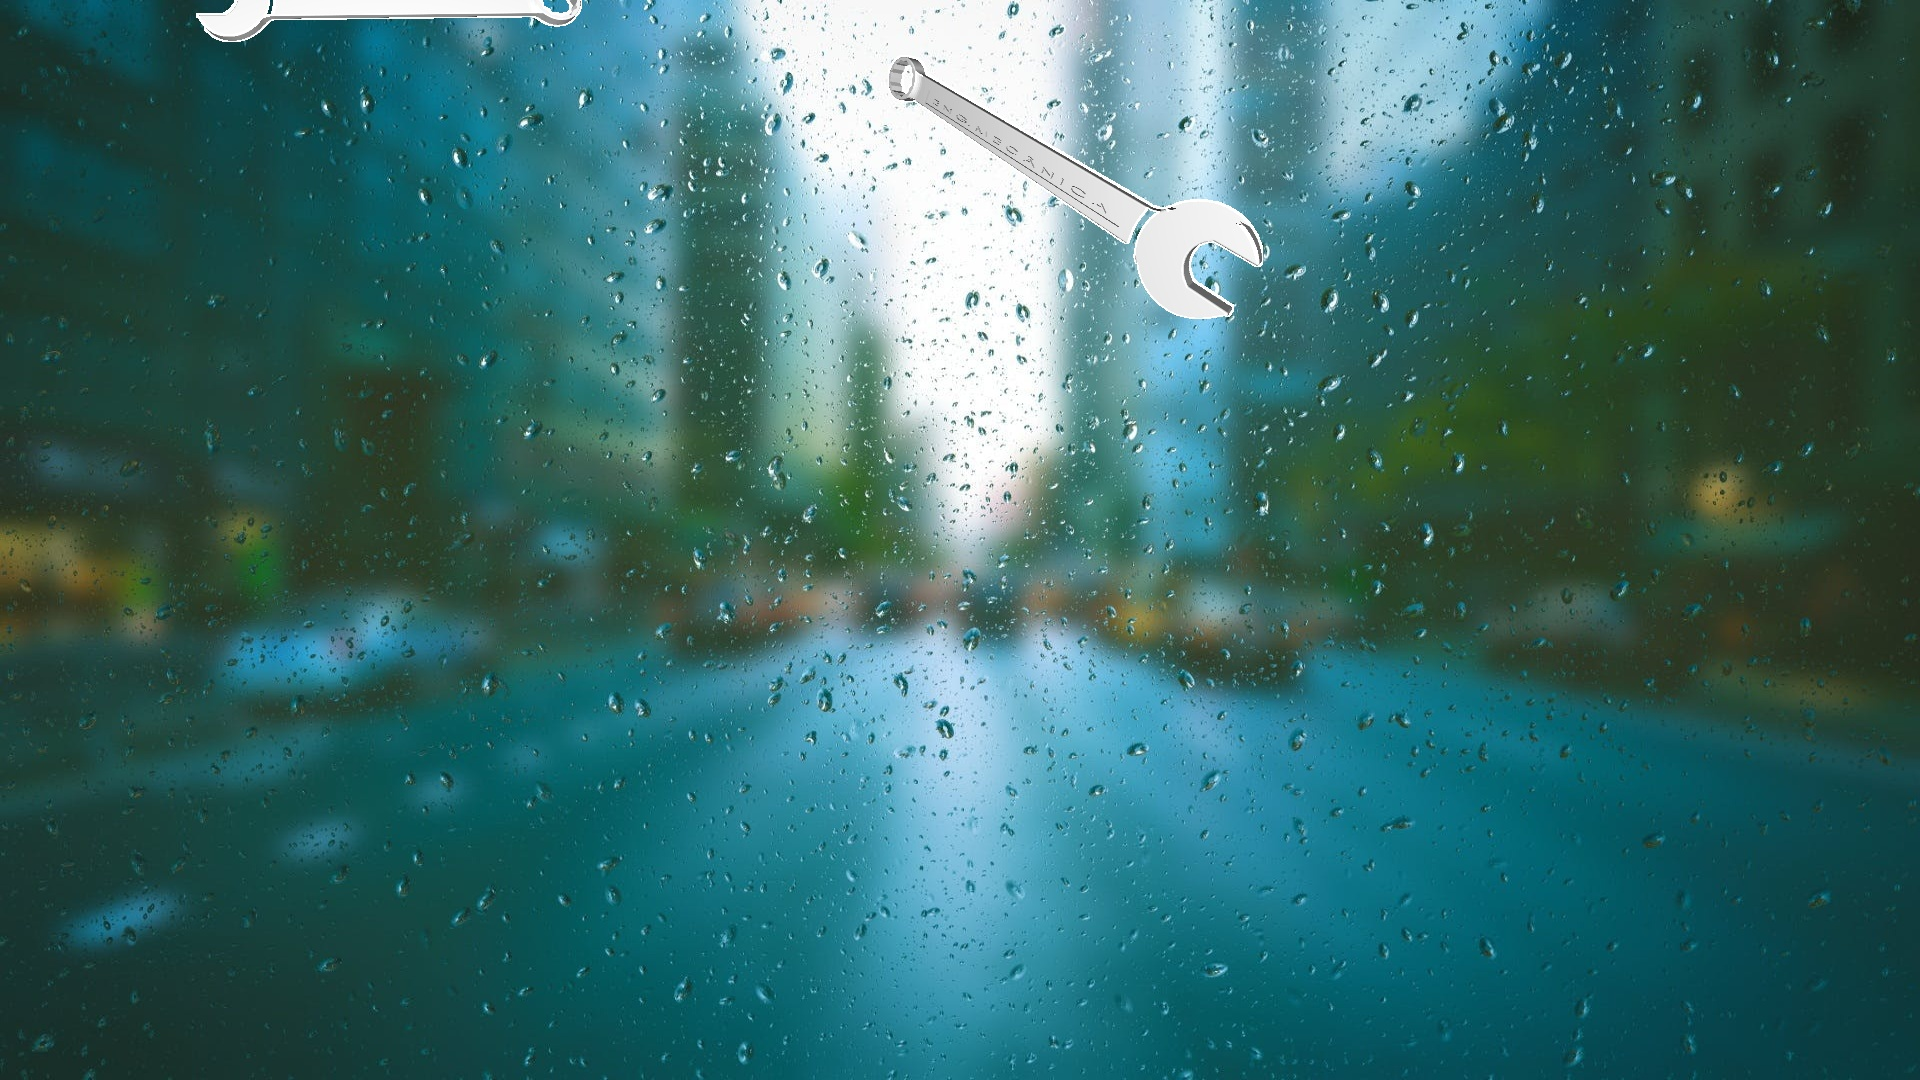Mixed Key: (887, 55, 1262, 318), (196, 0, 582, 41)
